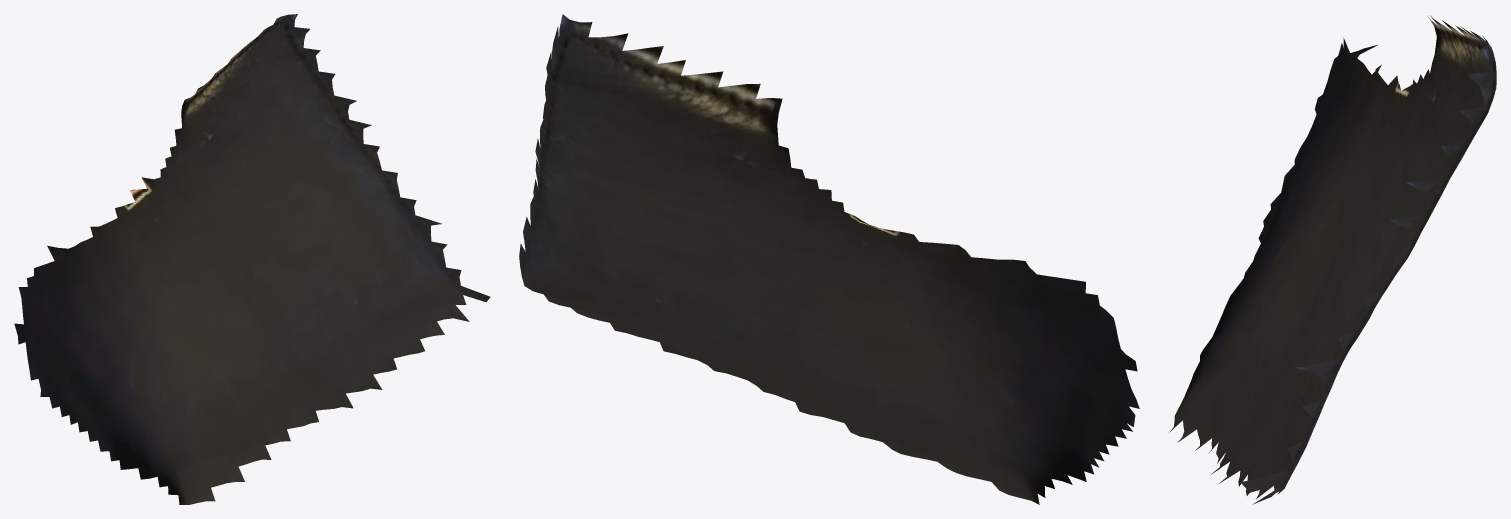
Rendered from observed-surface.glb.
3 renders of one model, left to right at view 1: azimuth 30°, elevation 25°; view 2: azimuth 150°, elevation 25°; view 3: azimuth 270°, elevation 25°, orthographic. The views are drawn at different scales.
Visible parts, largest first — view 1: geometry_0; view 2: geometry_0; view 3: geometry_0.
Boxes of the visible parts, x1,y1,x2,y2 form: geometry_0: [14, 14, 490, 504]; geometry_0: [519, 14, 1139, 504]; geometry_0: [1169, 15, 1496, 504].
Bounding box in the file's own units: 0.5875 × 0.4539 × 0.2609.
1 material, 1 textured.
